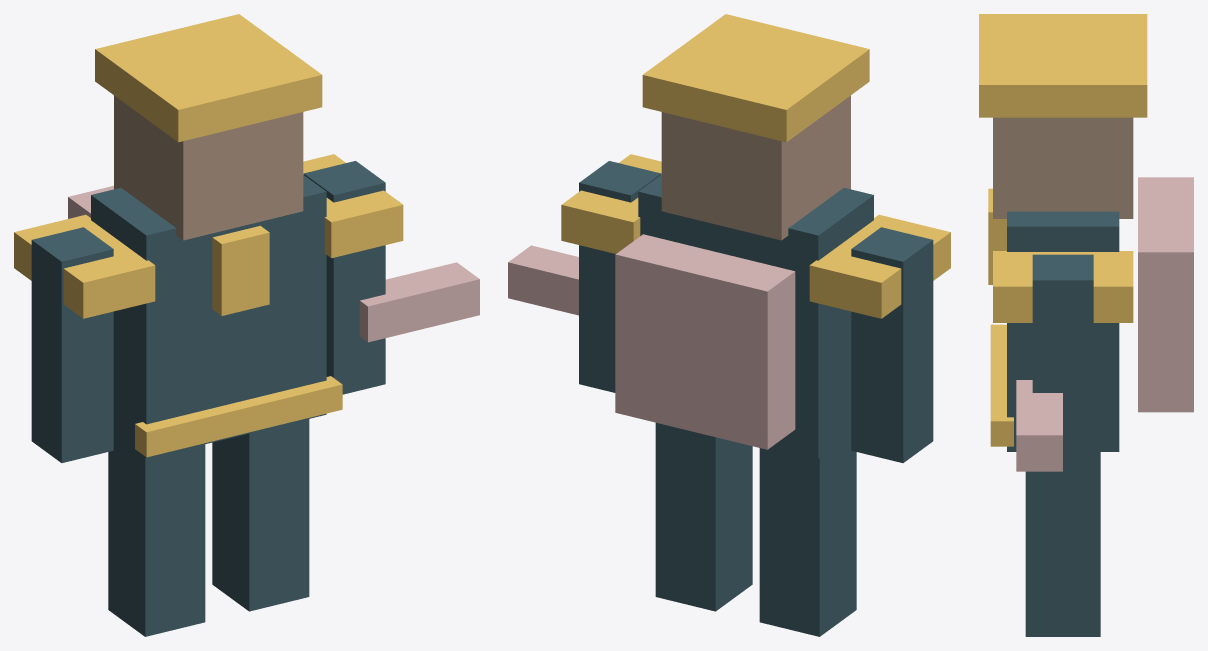
The model's file is 14_mirek_stormhush_keeper_at_hollow.glb.
The picture shows the model from 3 angles, left to right: view 1: azimuth 30°, elevation 25°; view 2: azimuth 150°, elevation 25°; view 3: azimuth 270°, elevation 25°; orthographic projection.
Parts seen in each view (by area): view 1: Mirek Stormhush, Keeper at Hollow; view 2: Mirek Stormhush, Keeper at Hollow; view 3: Mirek Stormhush, Keeper at Hollow.
Boxes of the visible parts, x1=… form: Mirek Stormhush, Keeper at Hollow: x1=14, y1=14, x2=479, y2=636; Mirek Stormhush, Keeper at Hollow: x1=508, y1=14, x2=950, y2=636; Mirek Stormhush, Keeper at Hollow: x1=979, y1=14, x2=1193, y2=636.
Size of the model in its own units: 1.11 by 1.4 by 0.499.
